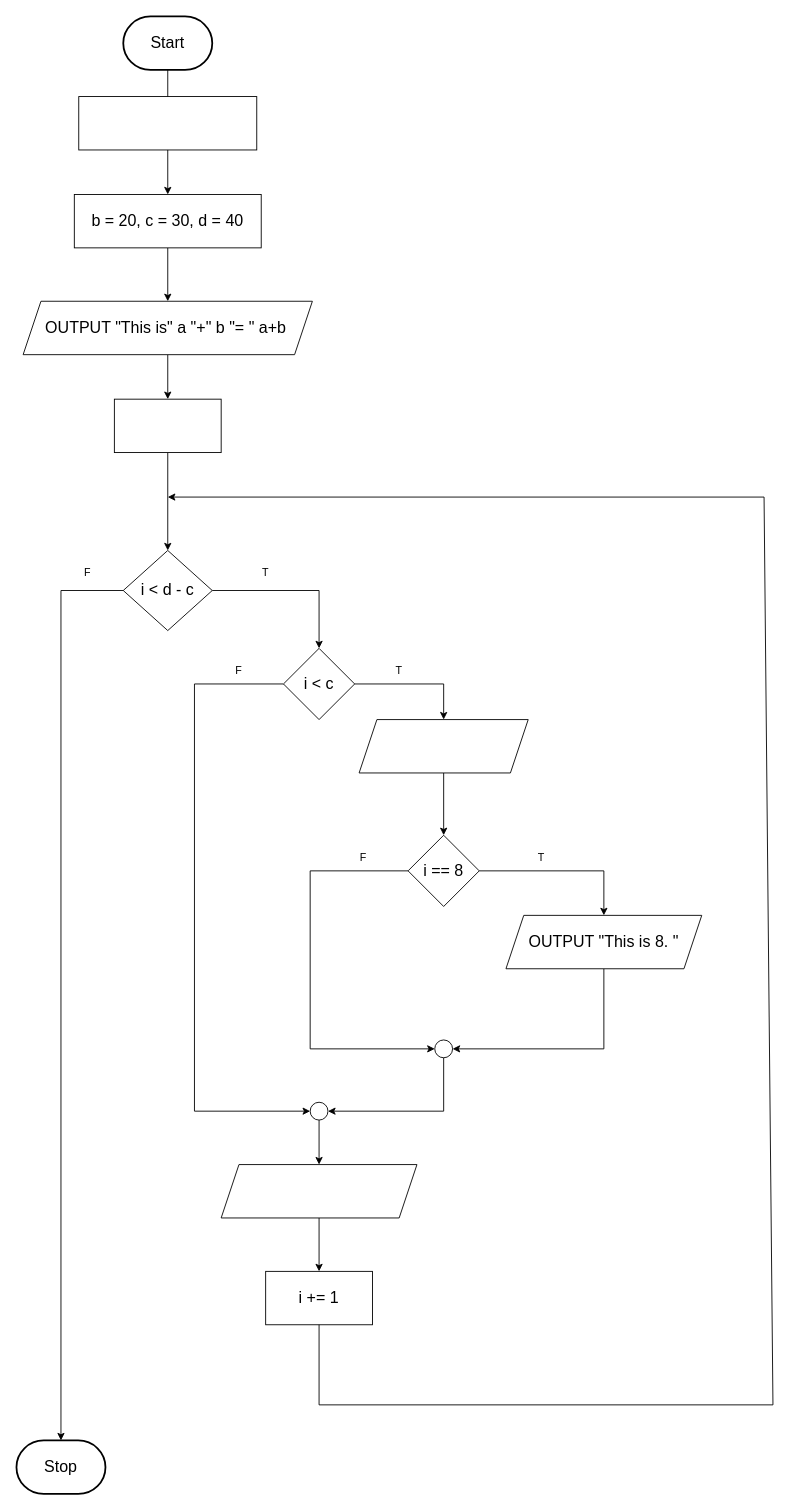
This 796x1509 diagram has some shape labels left out. Each missing label, with the centre of its shape:
a = 10: [167,123]
i = 0: [167,425]
OUTPUT "Here ": [443,746]
OUTPUT "ok": [318,1191]
